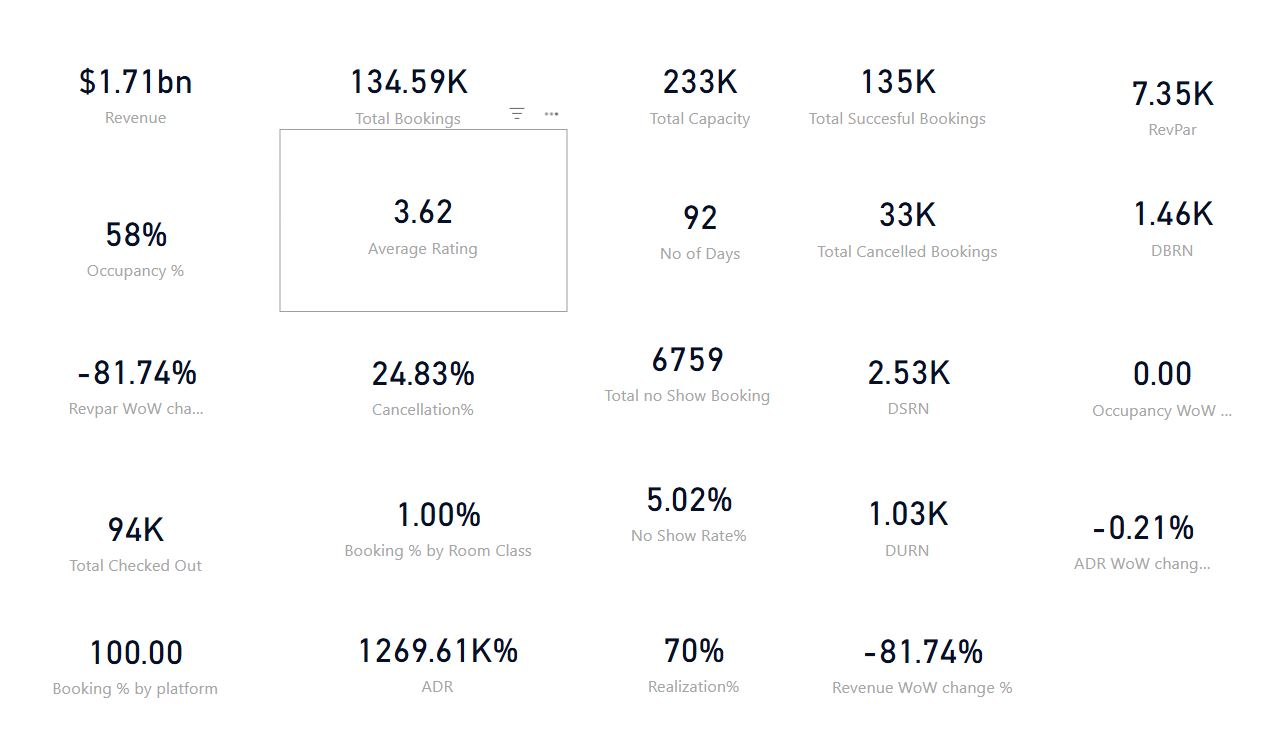

Layout of this report page (visuals, bound fields, positions):
{"tool":"powerbi","page":{"name":"Measures","canvas":[1280,720],"ordinal":0},"visuals":[{"type":"card","fields":{"Values":["_measures.Revenue"]},"box":[0,0,280.5,176.8],"z":0,"group":"g1"},{"type":"card","fields":{"Values":["_measures.Total Bookings"]},"box":[265.9,0,280.5,178],"z":1000,"group":"g1"},{"type":"card","fields":{"Values":["_measures.Total Capacity"]},"box":[551.2,0,279.3,178],"z":2000,"group":"g1"},{"type":"card","fields":{"Values":["_measures.Total Succesful Bookings"]},"box":[781.7,0,203.7,178],"z":3000,"group":"g1"},{"type":"card","fields":{"Values":["_measures.Occupancy %"]},"box":[0,148.8,280.5,178],"z":4000,"group":"g1"},{"type":"card","fields":{"Values":["_measures.Average Rating"]},"box":[280.5,126.8,280.5,178],"z":5000,"group":"g1"},{"type":"card","fields":{"Values":["_measures.No of Days"]},"box":[582.9,163.4,215.9,115.9],"z":6000,"group":"g1"},{"type":"card","fields":{"Values":["_measures.Total Cancelled Bookings"]},"box":[791.5,130.5,203.7,176.8],"z":7000,"group":"g1"},{"type":"card","fields":{"Values":["_measures.Cancellation%"]},"box":[280.5,284.1,280.5,178],"z":8000,"group":"g1"},{"type":"card","fields":{"Values":["_measures.Total Checked Out"]},"box":[0,436.6,280.5,178],"z":9000,"group":"g1"},{"type":"card","fields":{"Values":["_measures.Total no Show Booking"]},"box":[539,270.7,279.3,178],"z":10000,"group":"g1"},{"type":"card","fields":{"Values":["_measures.No Show Rate%"]},"box":[578,407.3,203.7,178],"z":11000,"group":"g1"},{"type":"card","fields":{"Values":["fact_bookings.Booking % by platform"]},"box":[0,570.3,280.2,149.3],"z":12000,"group":"g1"},{"type":"card","fields":{"Values":["_measures.Booking % by Room Class"]},"box":[295.1,436.6,280.5,148.8],"z":13000,"group":"g1"},{"type":"card","fields":{"Values":["_measures.ADR"]},"box":[295.1,569.5,279.3,148.8],"z":14000,"group":"g1"},{"type":"card","fields":{"Values":["_measures.Realization%"]},"box":[582.9,569.5,203.7,148.8],"z":15000,"group":"g1"},{"type":"card","fields":{"Values":["_measures.RevPar"]},"box":[1059.8,36.6,184.1,126.8],"z":16000,"group":"g1"},{"type":"card","fields":{"Values":["_measures.DBRN"]},"box":[1075.6,142.7,152.4,150],"z":17000,"group":"g1"},{"type":"card","fields":{"Values":["_measures.DSRN"]},"box":[818.3,297.6,152.4,150],"z":18000,"group":"g1"},{"type":"card","fields":{"Values":["_measures.DURN"]},"box":[817.1,435.4,152.4,150],"z":19000,"group":"g1"},{"type":"card","fields":{"Values":["_measures.Revenue WoW change %"]},"box":[806.1,569.5,203.7,150],"z":20000,"group":"g1"},{"type":"card","fields":{"Values":["_measures.Occupancy WoW change %"]},"box":[1067.1,298.8,150,150],"z":21000,"group":"g1"},{"type":"card","fields":{"Values":["_measures.ADR WoW change %"]},"box":[1047.6,448.8,150,150],"z":22000,"group":"g1"},{"type":"card","fields":{"Values":["_measures.Revpar WoW change %"]},"box":[65.9,297.6,150,150],"z":23000,"group":"g1"},{"type":"group","id":"g1","title":"Group 1","box":[0,0,1243.9,719.6],"z":23001}]}

Visuals, with their boxes in screenshot pixels (x1, y1, x2, y2), scaled from the page's 1280x720 canvas onto the 1263x732 screenshot:
card - _measures.Revenue: region(0, 0, 277, 180)
card - _measures.Total Bookings: region(262, 0, 539, 181)
card - _measures.Total Capacity: region(544, 0, 819, 181)
card - _measures.Total Succesful Bookings: region(771, 0, 972, 181)
card - _measures.Occupancy %: region(0, 151, 277, 332)
card - _measures.Average Rating: region(277, 129, 554, 310)
card - _measures.No of Days: region(575, 166, 788, 284)
card - _measures.Total Cancelled Bookings: region(781, 133, 982, 312)
card - _measures.Cancellation%: region(277, 289, 554, 470)
card - _measures.Total Checked Out: region(0, 444, 277, 625)
card - _measures.Total no Show Booking: region(532, 275, 807, 456)
card - _measures.No Show Rate%: region(570, 414, 771, 595)
card - fact_bookings.Booking % by platform: region(0, 580, 276, 731)
card - _measures.Booking % by Room Class: region(291, 444, 568, 595)
card - _measures.ADR: region(291, 579, 567, 730)
card - _measures.Realization%: region(575, 579, 776, 730)
card - _measures.RevPar: region(1046, 37, 1227, 166)
card - _measures.DBRN: region(1061, 145, 1212, 298)
card - _measures.DSRN: region(807, 303, 958, 455)
card - _measures.DURN: region(806, 443, 957, 595)
card - _measures.Revenue WoW change %: region(795, 579, 996, 731)
card - _measures.Occupancy WoW change %: region(1053, 304, 1201, 456)
card - _measures.ADR WoW change %: region(1034, 456, 1182, 609)
card - _measures.Revpar WoW change %: region(65, 303, 213, 455)
"Group 1" group: region(0, 0, 1227, 731)
